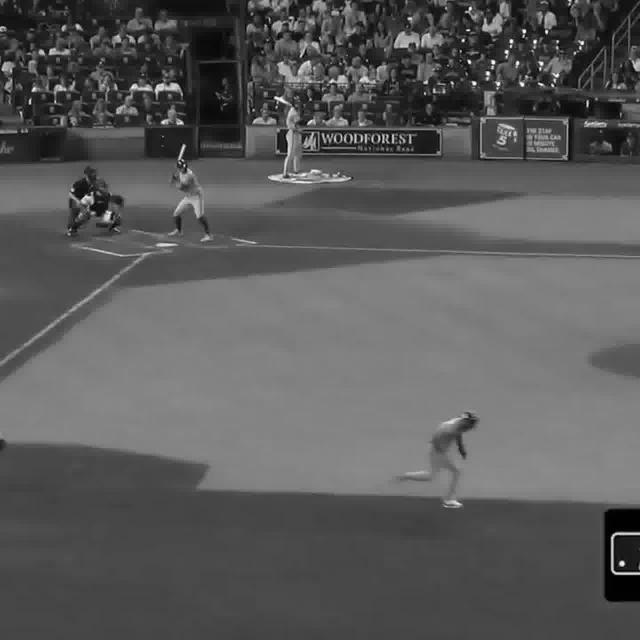base: (155, 241, 180, 250)
bat: (168, 141, 189, 189)
shoe: (391, 470, 411, 484), (442, 500, 461, 510), (201, 236, 214, 246), (167, 230, 180, 238), (73, 226, 83, 235), (110, 228, 121, 236)
